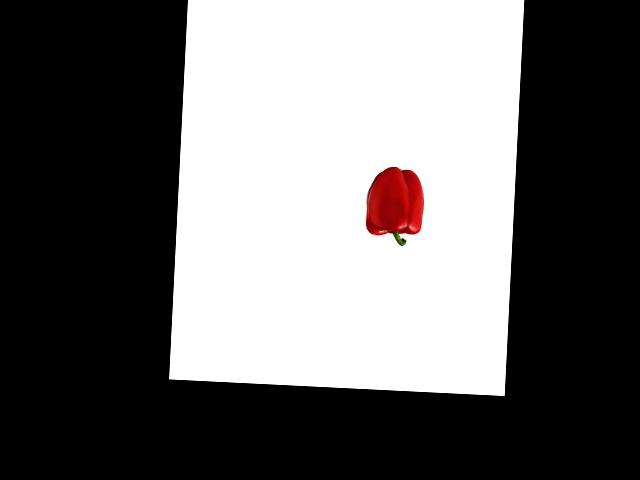bell_pepper: (360, 163, 428, 246)
